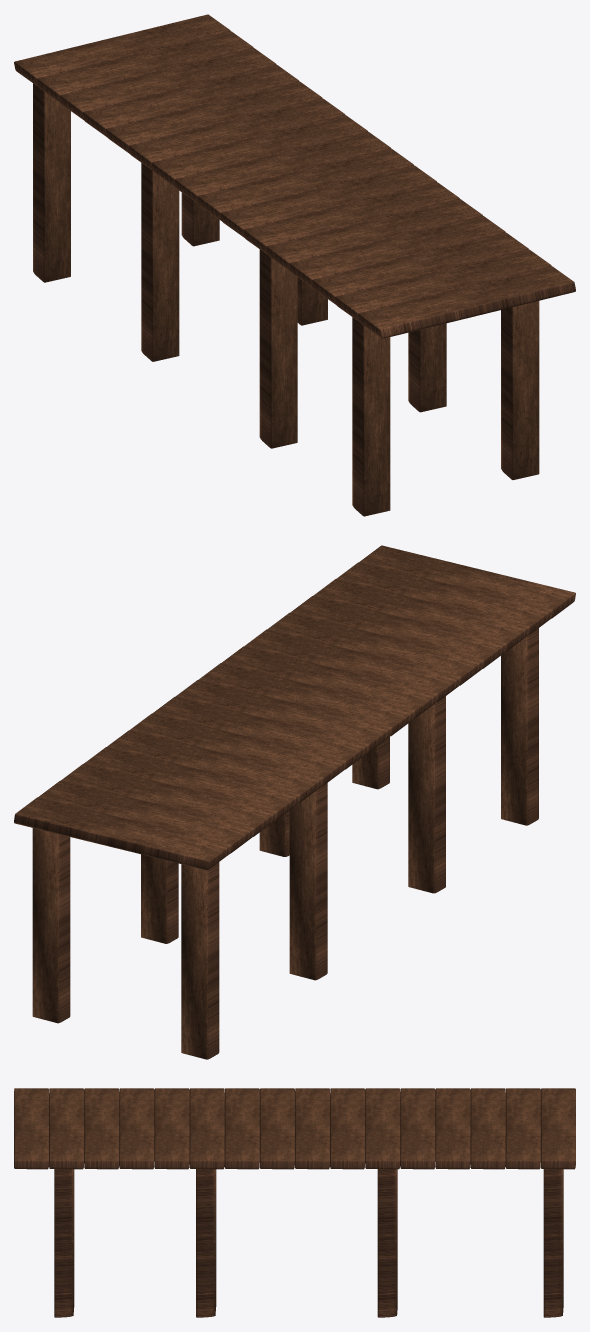
File: Pod.fbx
3 renders of one model, top to bottom at view 1: azimuth 30°, elevation 25°; view 2: azimuth 150°, elevation 25°; view 3: azimuth 270°, elevation 25°, orthographic. The views are drawn at different scales.
Visible parts, largest first — view 1: Plane.097; view 2: Plane.097; view 3: Plane.097.
Boxes of the visible parts, x1,y1,x2,y2 form: Plane.097: [14, 14, 575, 516]; Plane.097: [14, 545, 575, 1059]; Plane.097: [14, 1088, 575, 1317].
Bounding box in the file's own units: 109 × 111 × 352.
